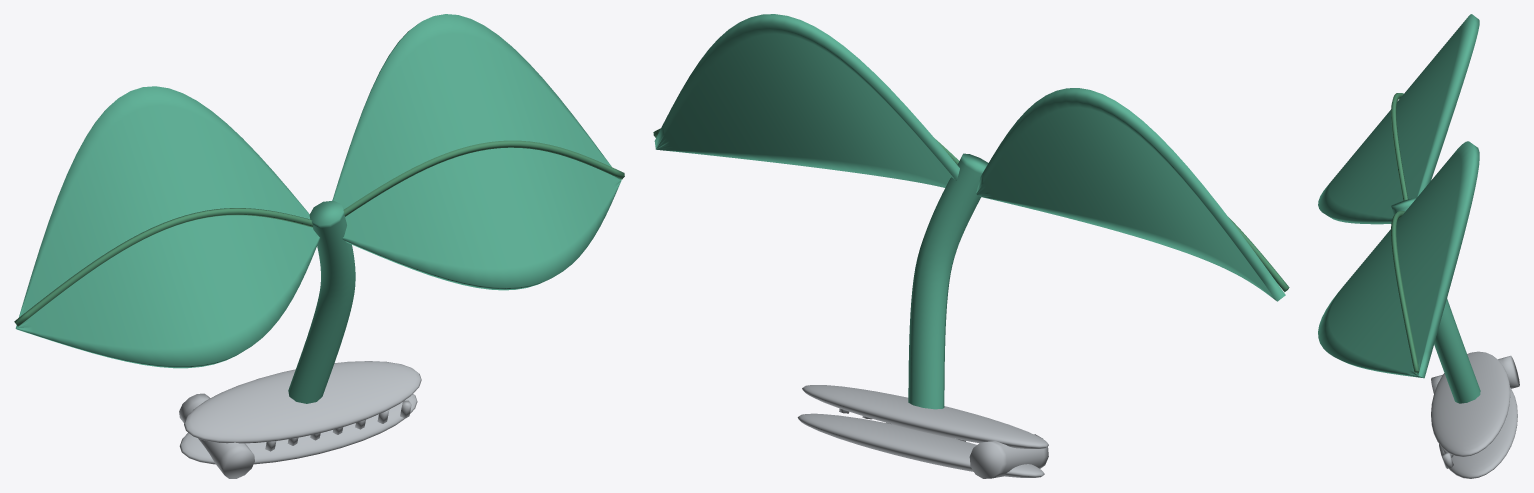
The model's file is Masculine-afro--headband-sprout.glb.
3 renders of one model, left to right at view 1: azimuth 30°, elevation 25°; view 2: azimuth 150°, elevation 25°; view 3: azimuth 270°, elevation 25°, orthographic. The views are drawn at different scales.
Visible parts, largest first — view 1: 226 extra / Accessory / mint226, 226 extra / Sprout / clip silver235, 226 extra / Sprout / leaf vein235; view 2: 226 extra / Accessory / mint226, 226 extra / Sprout / clip silver235; view 3: 226 extra / Accessory / mint226, 226 extra / Sprout / clip silver235, 226 extra / Sprout / leaf vein235.
Boxes of the visible parts, bbox=[...] form: 226 extra / Accessory / mint226: bbox=[15, 14, 621, 403]; 226 extra / Sprout / clip silver235: bbox=[179, 361, 421, 478]; 226 extra / Sprout / leaf vein235: bbox=[14, 140, 624, 326]; 226 extra / Accessory / mint226: bbox=[654, 14, 1285, 409]; 226 extra / Sprout / clip silver235: bbox=[797, 385, 1048, 478]; 226 extra / Accessory / mint226: bbox=[1318, 14, 1480, 403]; 226 extra / Sprout / clip silver235: bbox=[1431, 351, 1519, 478]; 226 extra / Sprout / leaf vein235: bbox=[1391, 93, 1419, 373].
Size of the model in its own units: 0.2717 by 0.1692 by 0.0875.
